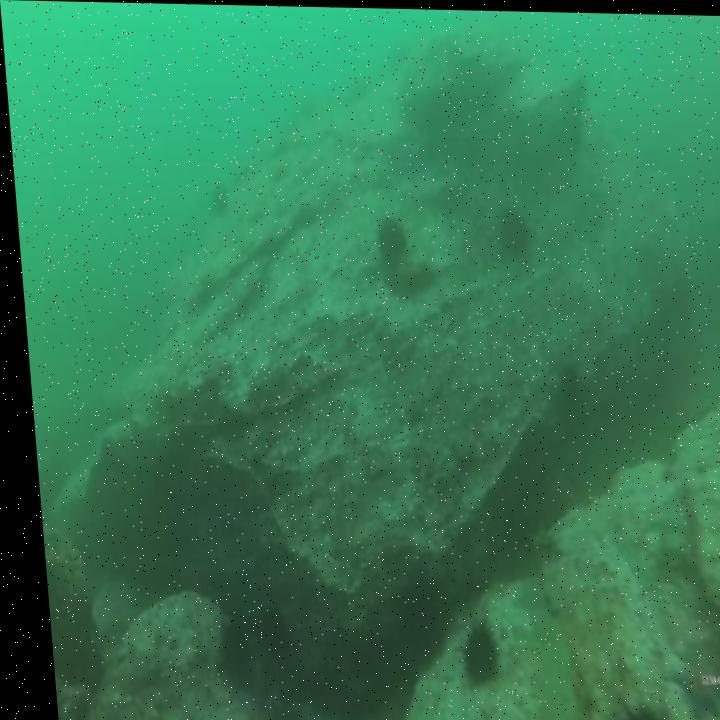echinus: (392, 579, 435, 650), (451, 620, 486, 679), (250, 608, 282, 653), (211, 625, 239, 672), (494, 209, 525, 251), (371, 221, 400, 261), (550, 365, 574, 404), (207, 186, 224, 210)
starfish: (663, 660, 712, 719)
